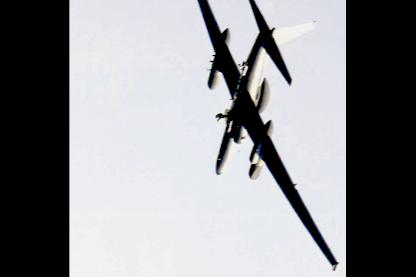Tu160: (175, 0, 340, 272)
